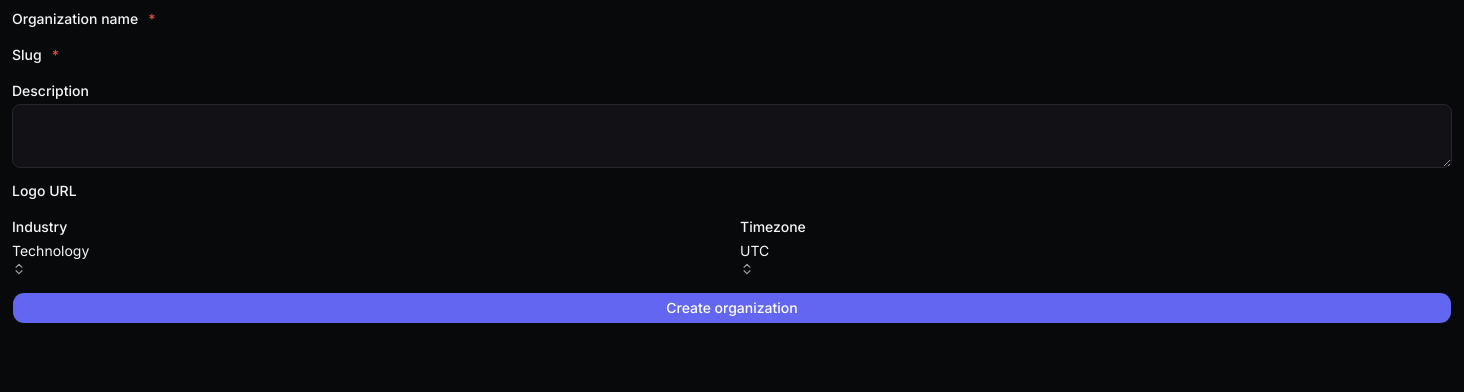
Scenario: OrganizationForm › requires a name before submit
This screenshot has width=1464, height=392.
Click the button "Create organization" at (732, 308), box [12,292,1452,324]
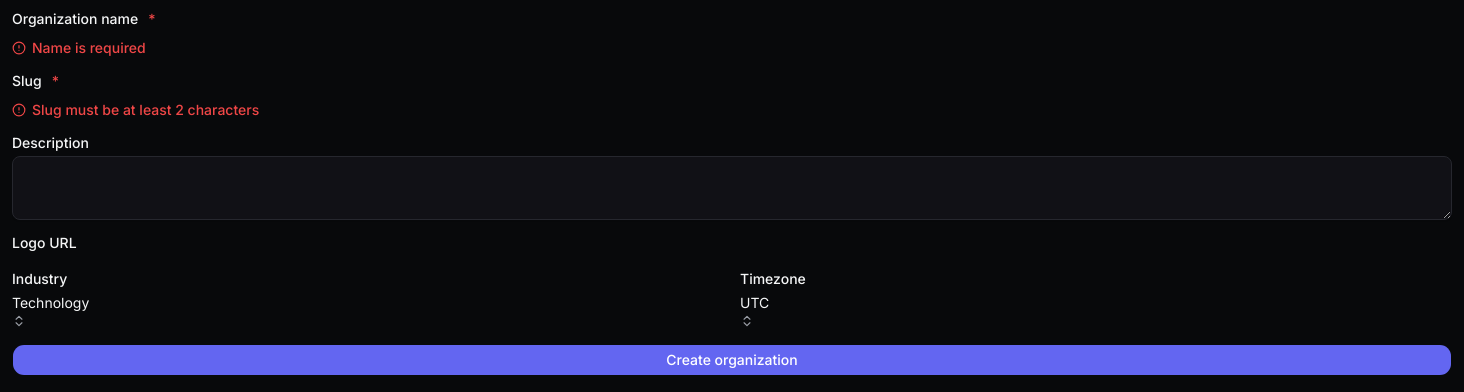
Check: the text "Name is required" is shown, box [12,39,146,56]
